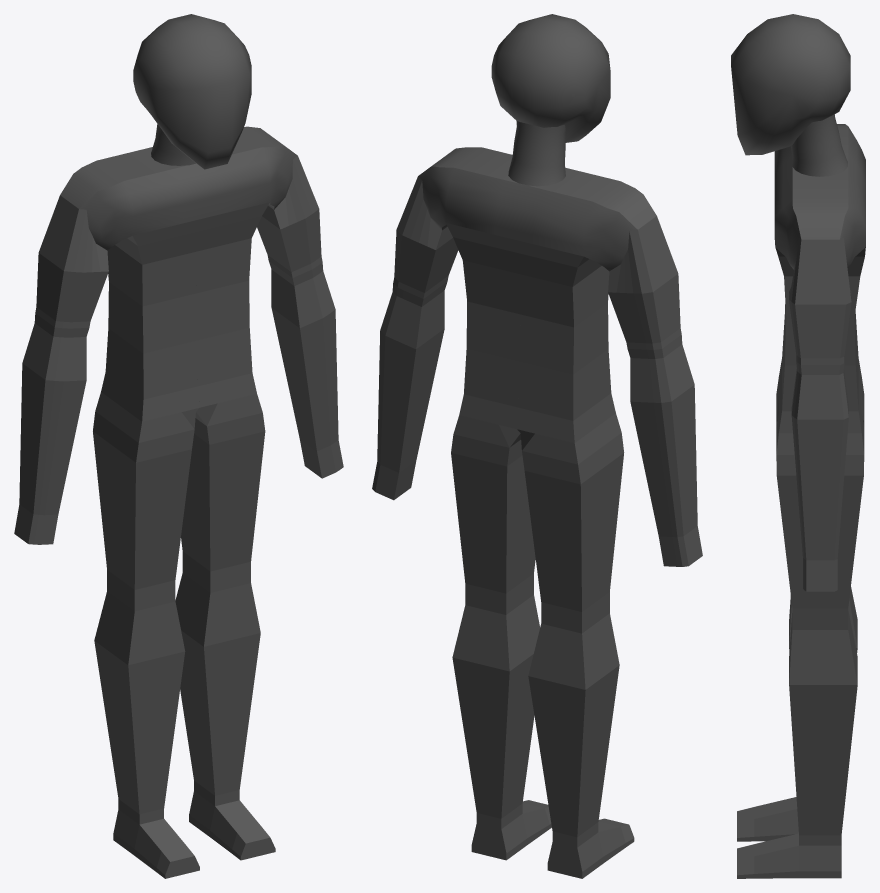
File: zombie01.fbx
3 renders of one model, left to right at view 1: azimuth 30°, elevation 25°; view 2: azimuth 150°, elevation 25°; view 3: azimuth 270°, elevation 25°, orthographic.
Parts seen in each view (by area): view 1: Box002, Box001, Sphere001, Cylinder001; view 2: Box002, Box001, Sphere001, Cylinder001; view 3: Box001, Sphere001, Box002, Cylinder001.
Part boxes in pixels (x1,y1,x2,y2): Box002: (14,147,201,878); Box001: (175,126,343,860); Sphere001: (133,14,251,169); Cylinder001: (151,124,195,165); Box002: (515,168,702,878); Box001: (372,147,551,860); Sphere001: (491,14,610,142); Cylinder001: (508,121,565,186); Box001: (737,164,865,878); Sphere001: (731,14,850,155); Box002: (737,124,865,841); Cylinder001: (791,114,847,176).
Size of the model in its own units: 57.8 by 21.19 by 144.
